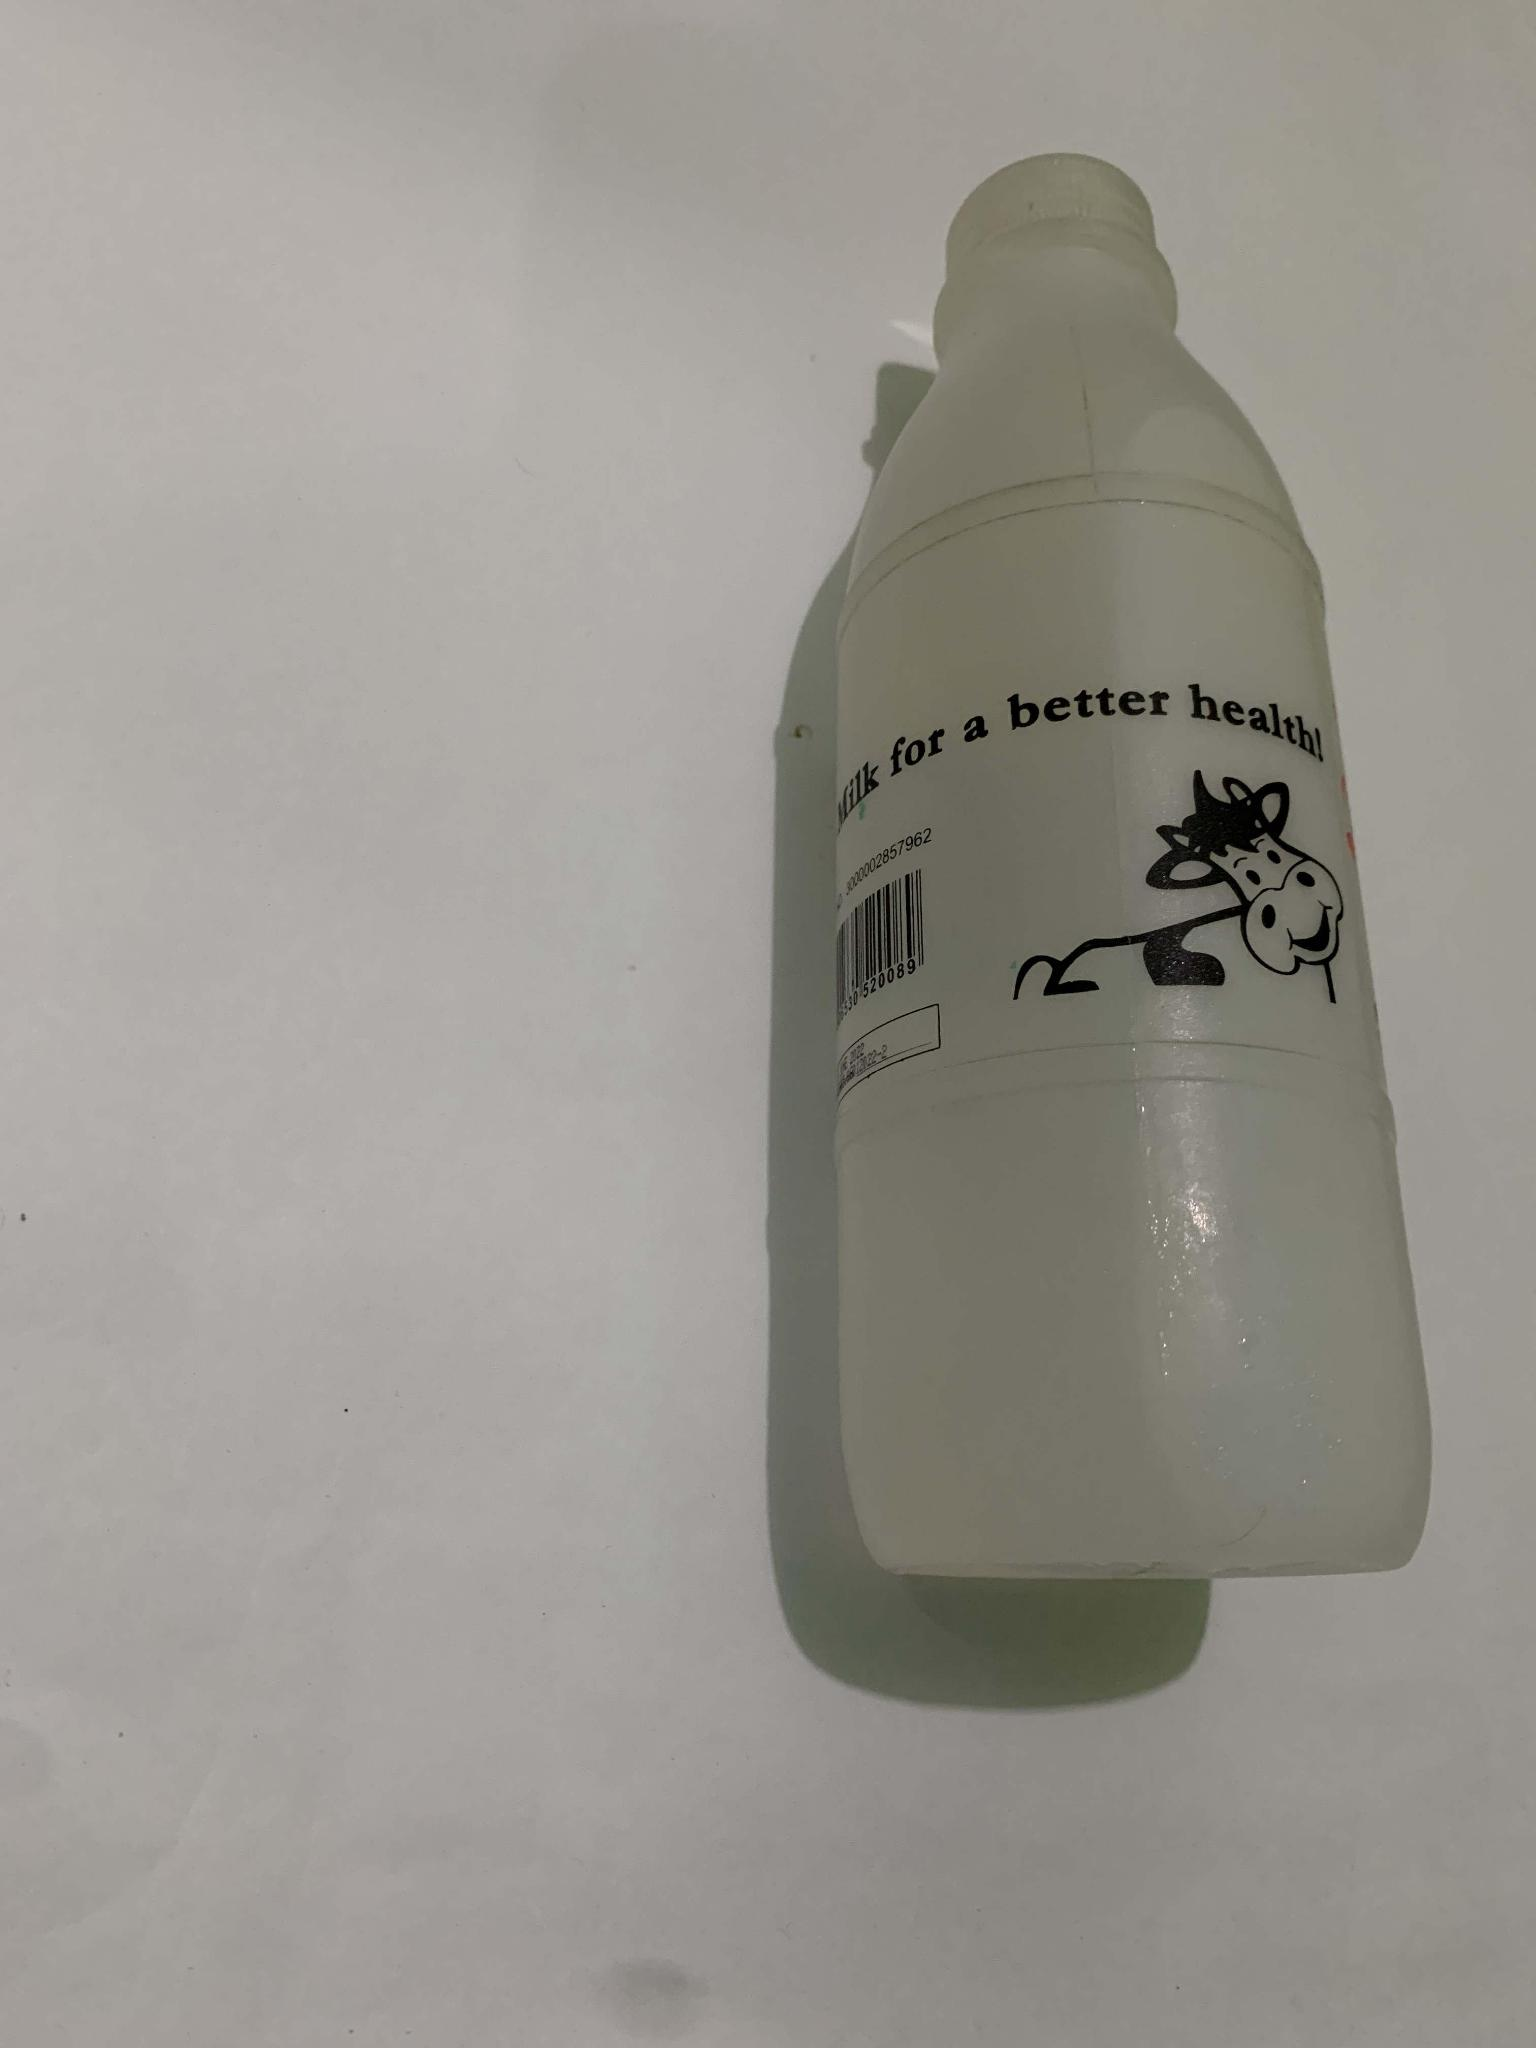bottle: (812, 142, 1434, 1590)
